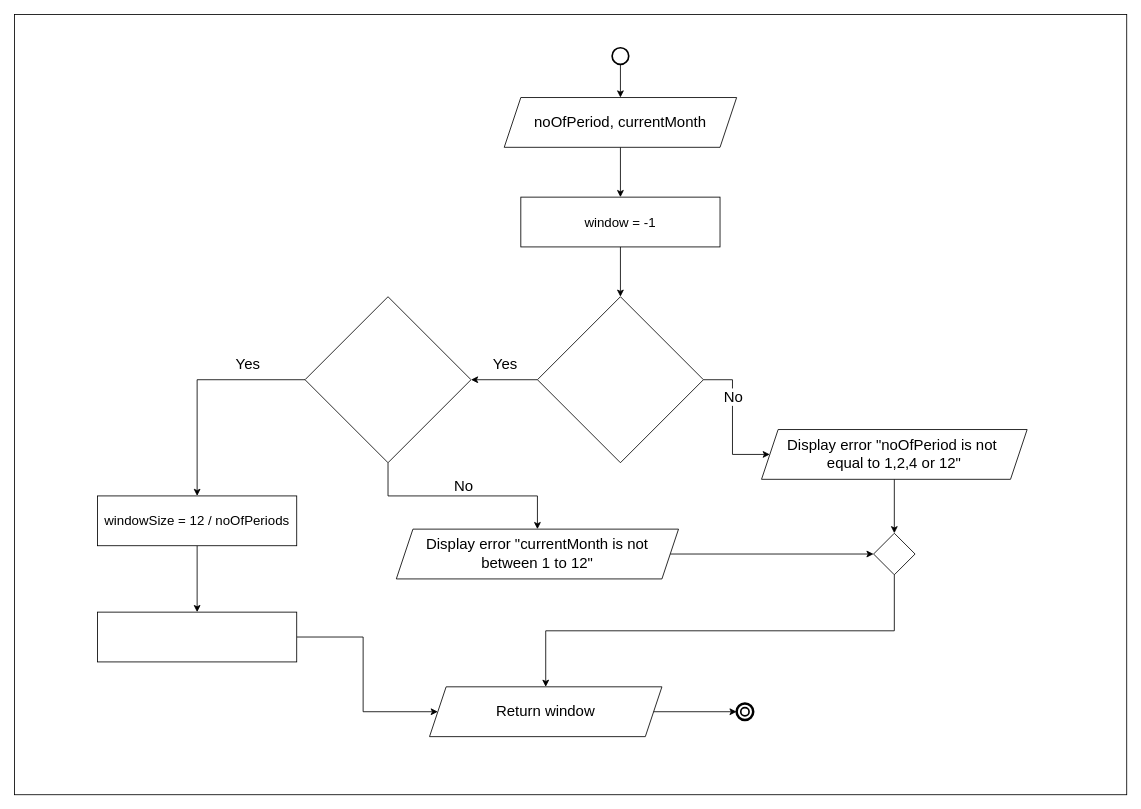
Image size: 1141x809. Some labels were removed from this diagram. The shapes that lost their labels are listed below. From the top down, each one's centre as x and y in pixels, then its label:
At point 387,379: "Is currentMonth between 1 to 12?".
At point 620,379: "Is noOfPeriod equal to 1, 2, 4, or 12?".
At point 197,636: "window = currentMonth -1 / windowSize".
